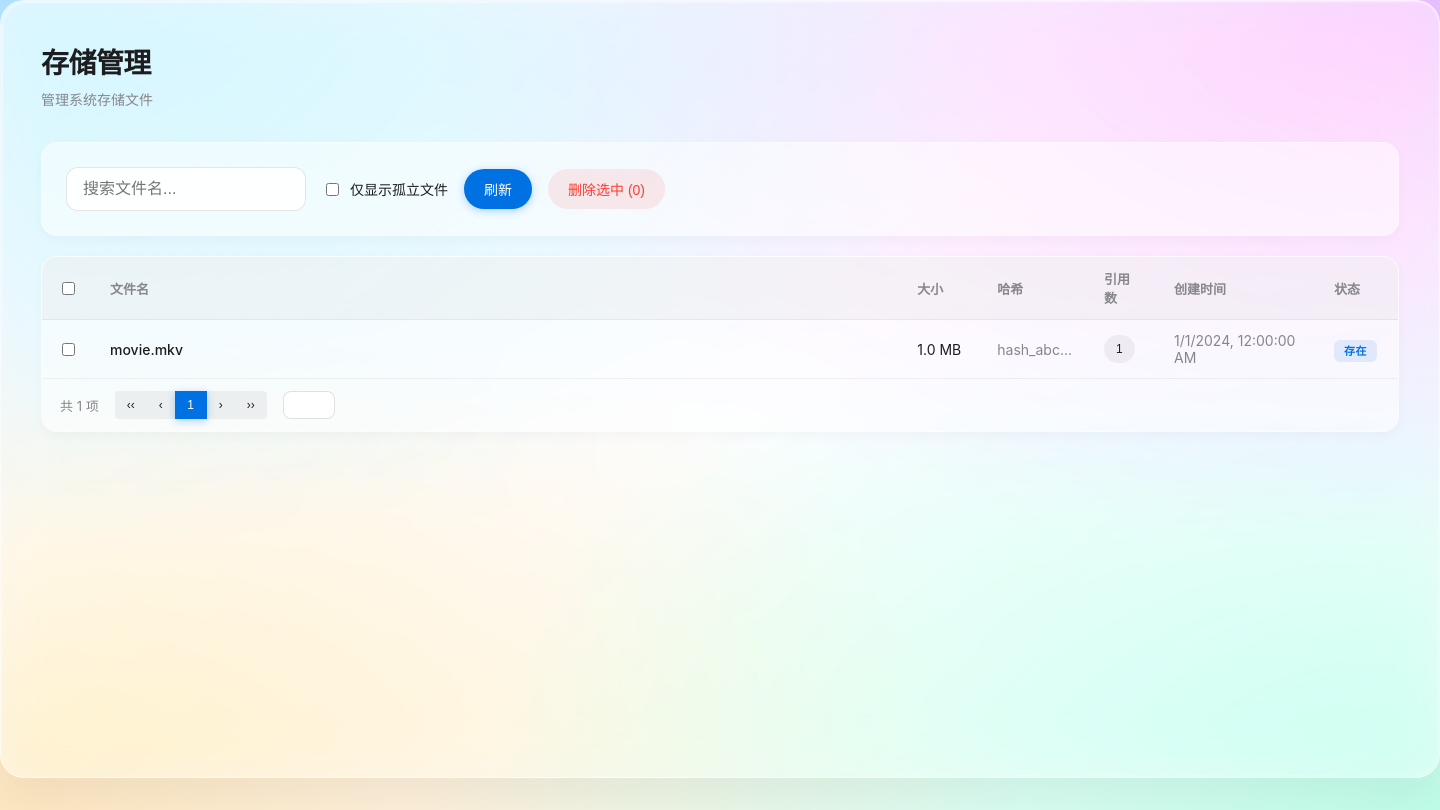
Test case: StoragePage › ignores stale responses from older filters
Expected: the text "movie.mkv" is shown, [94,320,901,378]
In the field labelled "搜索文件名": (186, 189) [66,167,306,211], type "old"
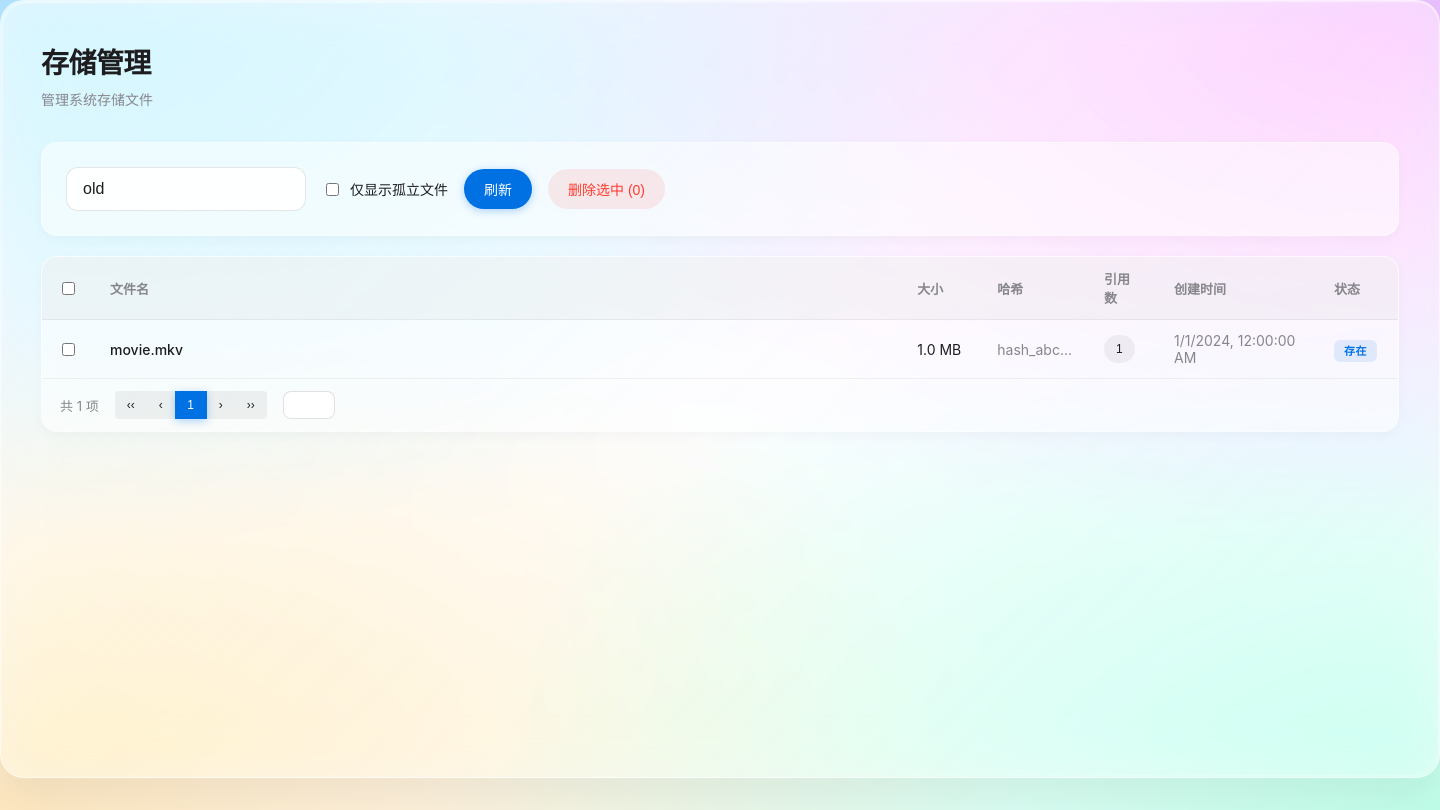
Replace the text in the field named "搜索文件名" with "latest": (186, 189) [66,167,306,211]
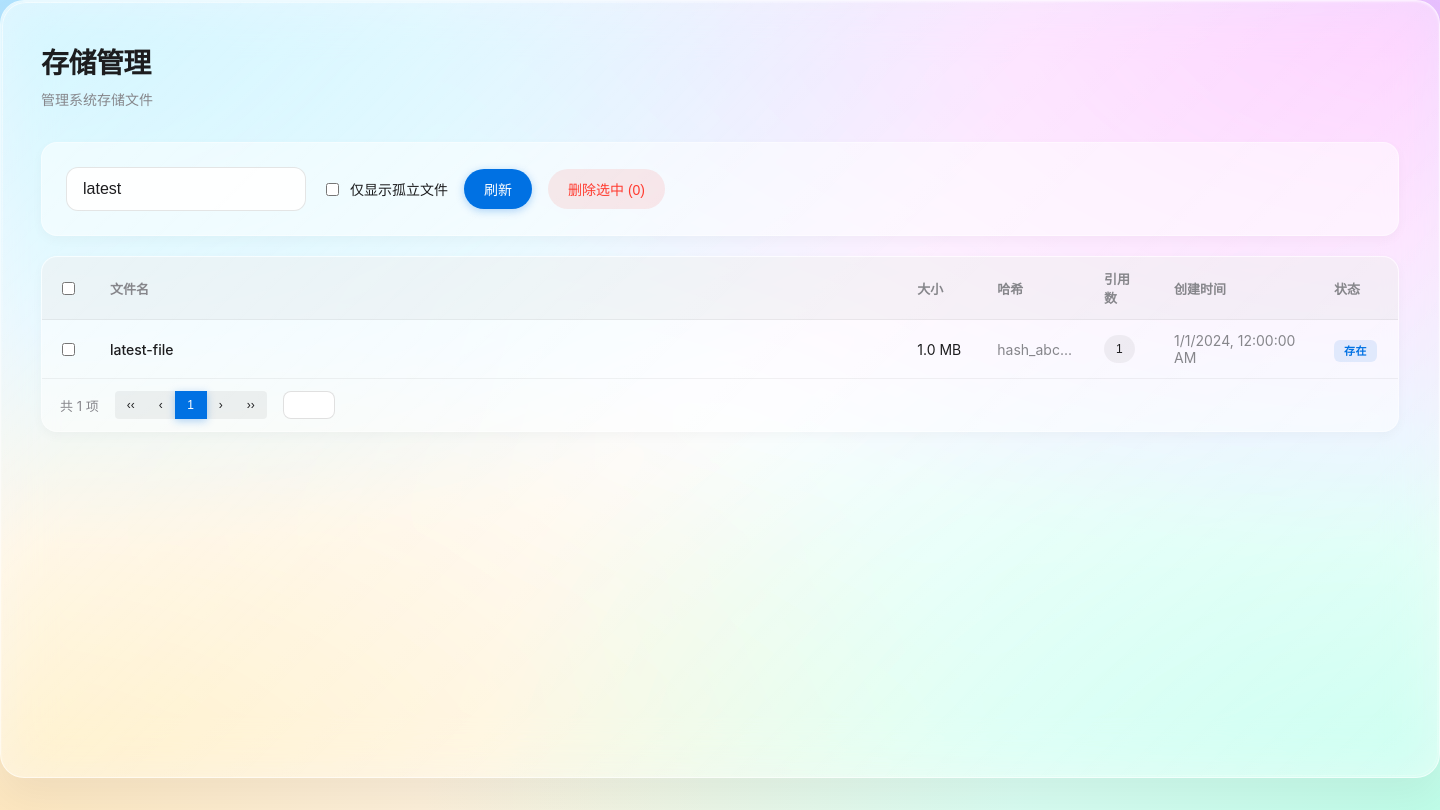
Expected: the text "latest-file" is shown, [94,320,901,378]
